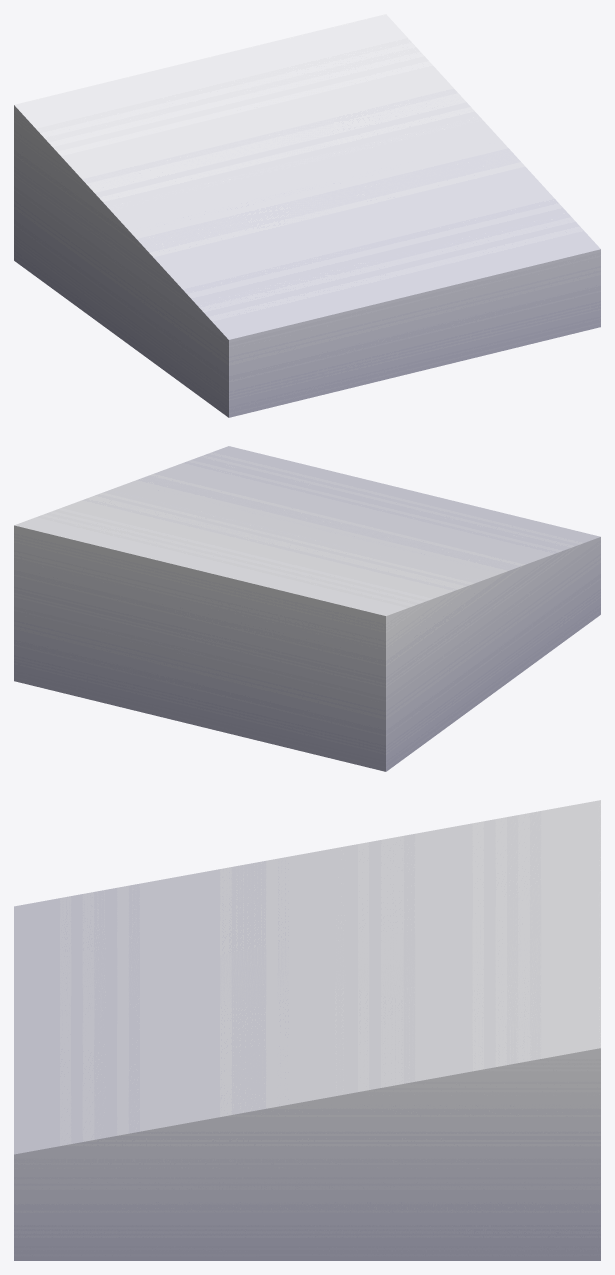
The model's file is snow-tile-slope.glb.
3 views of the same model, one above another, from view 1: azimuth 30°, elevation 25°; view 2: azimuth 150°, elevation 25°; view 3: azimuth 270°, elevation 25° (orthographic). The views are drawn at different scales.
Parts seen in each view (by area): view 1: snow-tile-slope; view 2: snow-tile-slope; view 3: snow-tile-slope.
Boxes of the visible parts, x1,y1,x2,y2 form: snow-tile-slope: [14, 14, 600, 417]; snow-tile-slope: [14, 446, 600, 771]; snow-tile-slope: [14, 800, 600, 1260].
Size of the model in its own units: 1 by 0.4 by 1.
Materials: 1 (1 with a texture image).
